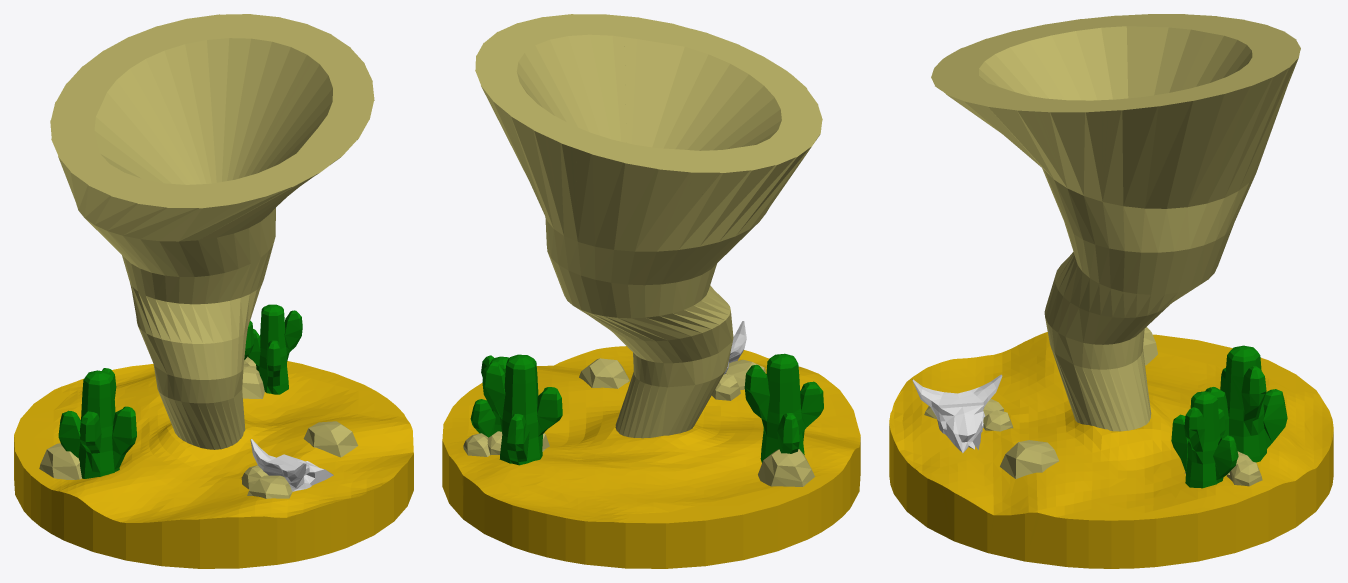
Rendered from sandstorm.glb.
3 renders of one model, left to right at view 1: azimuth 30°, elevation 25°; view 2: azimuth 150°, elevation 25°; view 3: azimuth 270°, elevation 25°, orthographic. The views are drawn at different scales.
Visible parts, largest first — view 1: sandstorm; view 2: sandstorm; view 3: sandstorm.
Part boxes in pixels (x1,y1,x2,y2): sandstorm: [14, 14, 413, 568]; sandstorm: [442, 14, 860, 568]; sandstorm: [889, 14, 1333, 568].
Bounding box in the file's own units: 25 × 27.62 × 25.01.
